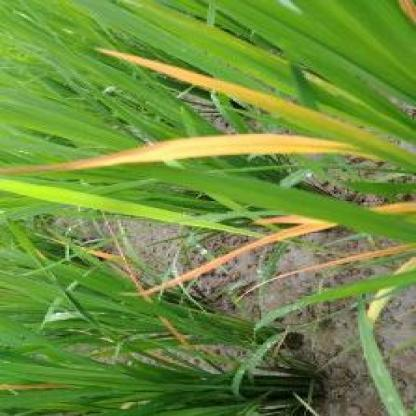Tungro: (102, 51, 416, 171), (5, 134, 380, 175)
